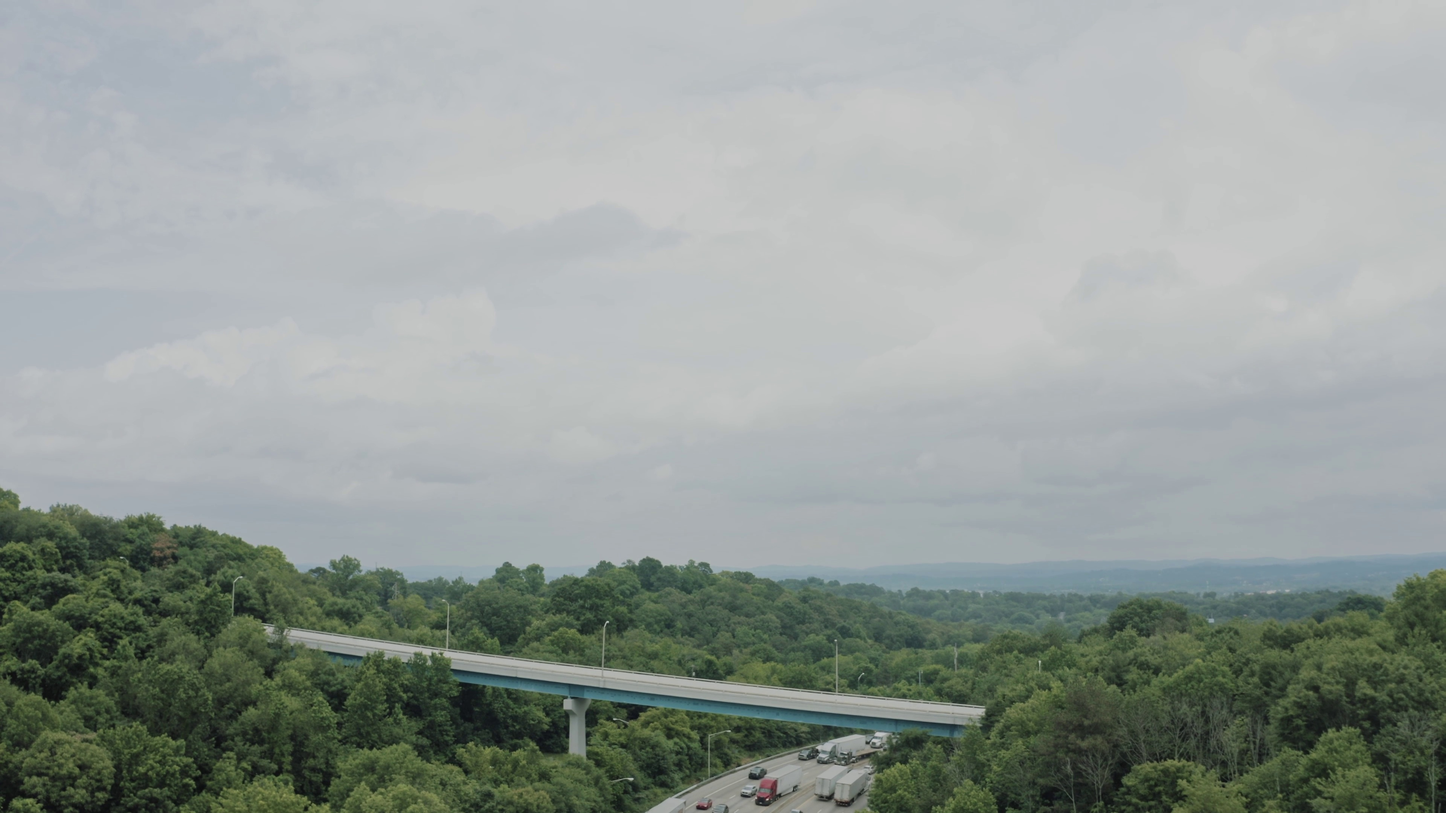Vehicle: (756, 777, 781, 808), (819, 741, 840, 765), (797, 746, 819, 763), (836, 749, 856, 767), (870, 732, 892, 748), (748, 766, 767, 780), (740, 785, 757, 798), (696, 797, 712, 810), (863, 763, 879, 773), (712, 804, 729, 813), (791, 809, 804, 813)
